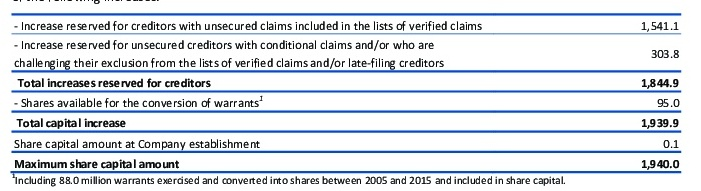table: (0, 0, 701, 191)
